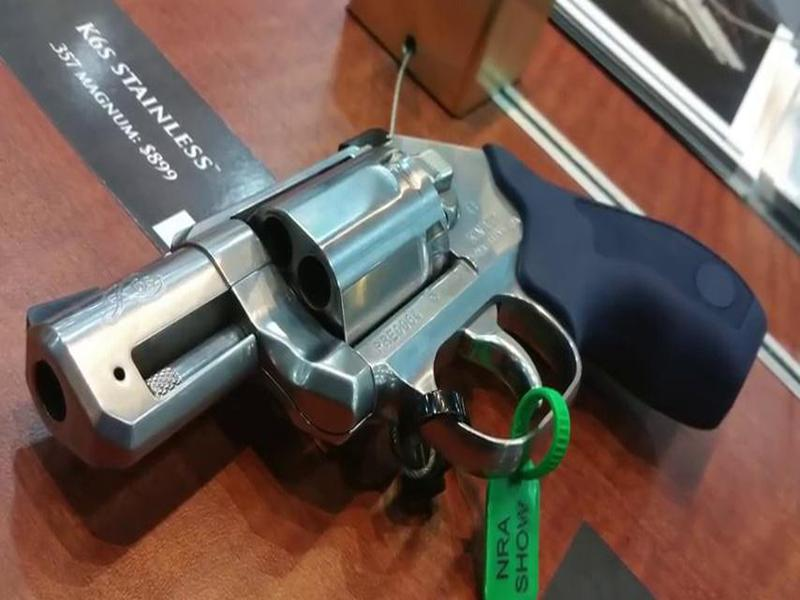Revolver: (34, 113, 778, 494)
